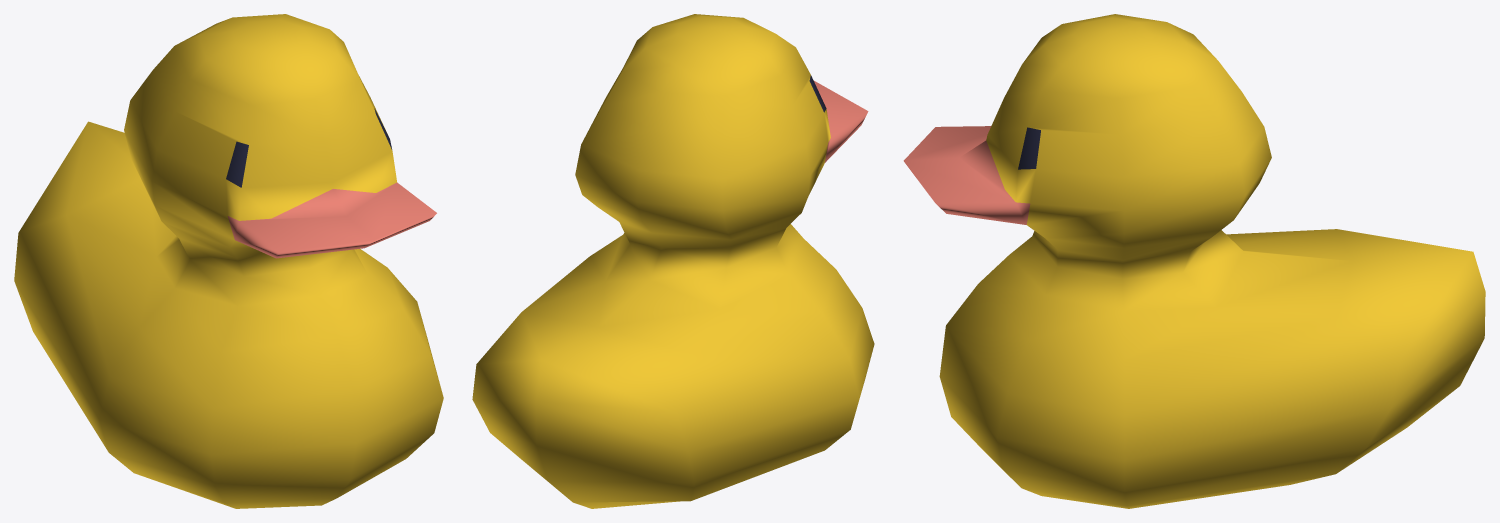
The model's file is SM_bubberDucky.fbx.
3 renders of one model, left to right at view 1: azimuth 30°, elevation 25°; view 2: azimuth 150°, elevation 25°; view 3: azimuth 270°, elevation 25°, orthographic. The views are drawn at different scales.
Parts seen in each view (by area): view 1: SM_chuckTheDuck; view 2: SM_chuckTheDuck; view 3: SM_chuckTheDuck.
Part boxes in pixels (box(x1,y1,x2,y2)): SM_chuckTheDuck: box(14, 14, 443, 508); SM_chuckTheDuck: box(472, 14, 874, 508); SM_chuckTheDuck: box(903, 14, 1485, 508).
Bounding box in the file's own units: 0.6289 × 0.8146 × 0.9699.
